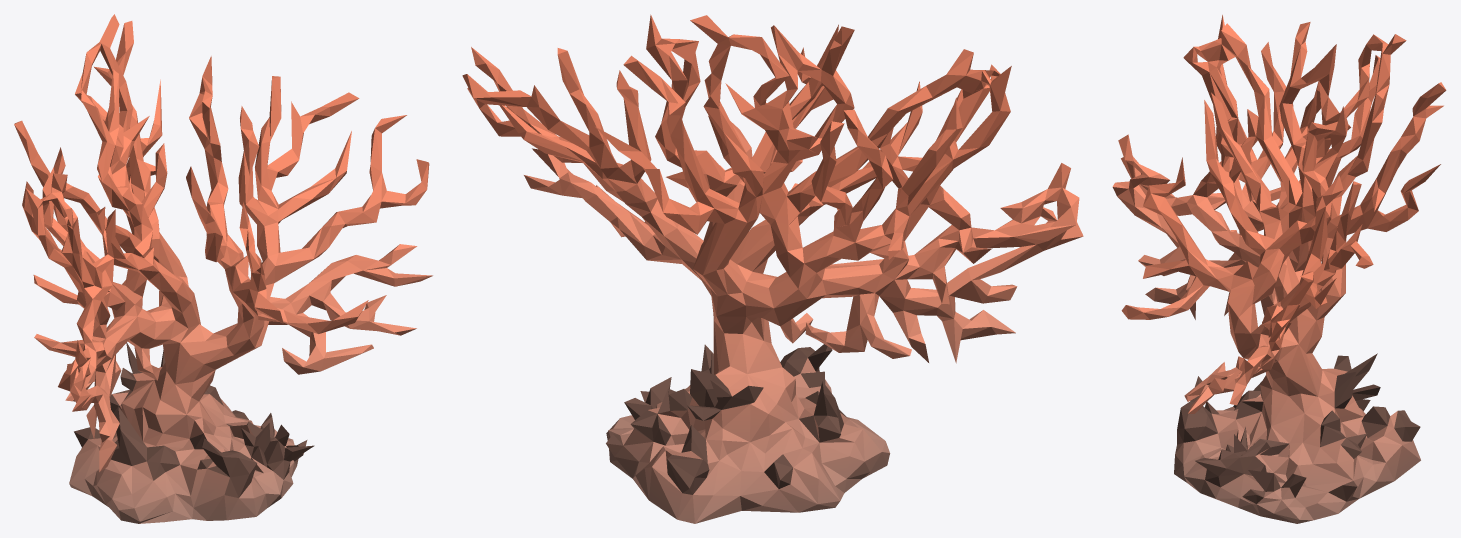
The model's file is Coral_012.glb.
3 renders of one model, left to right at view 1: azimuth 30°, elevation 25°; view 2: azimuth 150°, elevation 25°; view 3: azimuth 270°, elevation 25°, orthographic. The views are drawn at different scales.
Parts seen in each view (by area): view 1: Coral_012; view 2: Coral_012; view 3: Coral_012.
Part boxes in pixels (<box>): Coral_012: <box>14,14,432,523</box>; Coral_012: <box>462,14,1083,523</box>; Coral_012: <box>1112,15,1446,523</box>.
Size of the model in its own units: 1.22 by 1.13 by 0.7994.
Materials: 1 (1 with a texture image).
